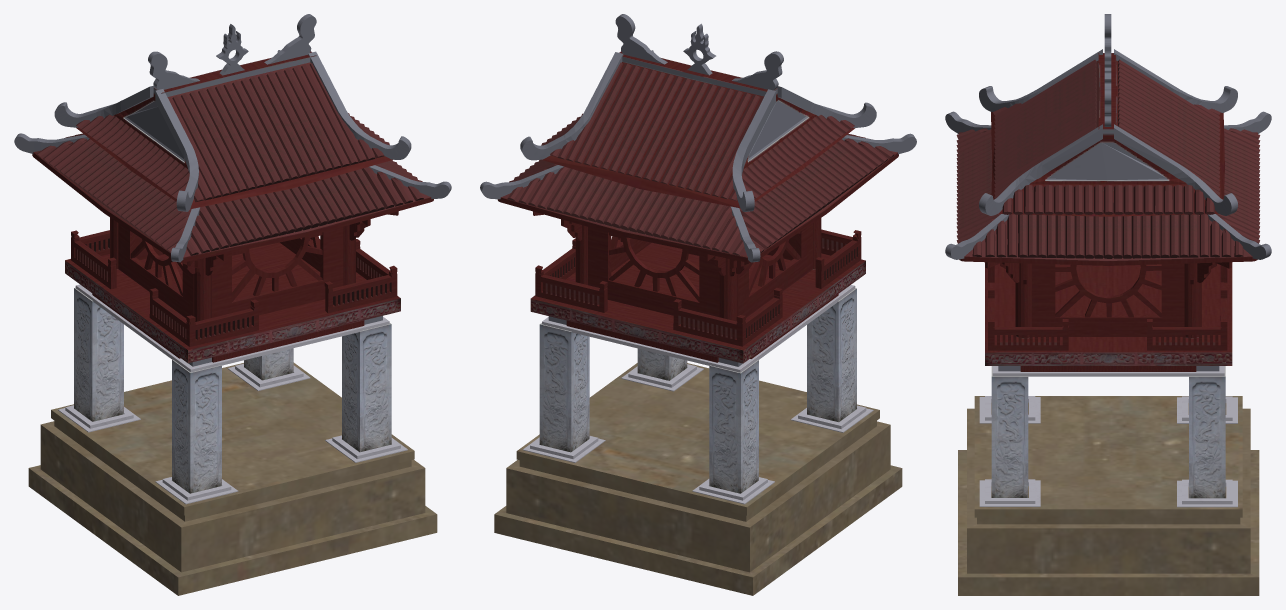
File: hue_van_cac.glb
The picture shows the model from 3 angles, left to right: view 1: azimuth 30°, elevation 25°; view 2: azimuth 150°, elevation 25°; view 3: azimuth 270°, elevation 25°; orthographic projection.
Visible parts, largest first — view 1: Cube.006, _gltfNode_1, Cylinder, Cylinder.002, _gltfNode_0.006, Cube.001, _gltfNode_0.001, Cube, Plane.001, Plane, Cylinder.001, _gltfNode_1.002 (+4 smaller); view 2: Cube.006, _gltfNode_1, Cylinder, Cylinder.002, _gltfNode_0.006, Cube.001, _gltfNode_0.001, Cube, Plane.001, Plane, Cylinder.001, _gltfNode_1.002 (+4 smaller); view 3: Cube.006, _gltfNode_1, Cylinder, Cylinder.002, _gltfNode_0.006, Cube.001, Cube, _gltfNode_0.001, Plane.001, Plane, Cylinder.001, Circle (+3 smaller).
Boxes of the visible parts, x1,y1,x2,y2 form: Cube.006: (28,362,437,595); _gltfNode_1: (65,238,400,493); Cylinder: (81,63,389,200); Cylinder.002: (37,133,423,255); _gltfNode_0.006: (14,14,451,262); Cube.001: (76,51,392,209); _gltfNode_0.001: (71,230,397,346); Cube: (118,223,343,317); Plane.001: (58,363,407,504); Plane: (32,147,433,262); Cylinder.001: (110,217,355,321); _gltfNode_1.002: (75,284,389,372); Cube.006: (494,363,902,595); _gltfNode_1: (530,239,865,493); Cylinder: (541,62,849,199); Cylinder.002: (507,134,894,255); _gltfNode_0.006: (480,14,916,262); Cube.001: (541,51,855,208); _gltfNode_0.001: (535,229,861,346); Cube: (588,223,812,317); Plane.001: (523,364,873,504); Plane: (497,147,898,262); Cylinder.001: (575,218,821,321); _gltfNode_1.002: (542,285,855,372); Cube.006: (958,396,1259,595); _gltfNode_1: (985,262,1232,498); Cylinder: (994,59,1220,214); Cylinder.002: (956,128,1260,258); _gltfNode_0.006: (945,14,1271,259); Cube.001: (991,53,1224,216); Cube: (1032,263,1184,336); _gltfNode_0.001: (988,265,1227,350); Plane.001: (979,396,1237,507); Plane: (958,132,1257,265); Cylinder.001: (1015,263,1201,338); Circle: (1055,264,1161,317).
Bounding box in the file's own units: 17.18 × 28.38 × 17.18.
Materials: 1 (1 with a texture image).
